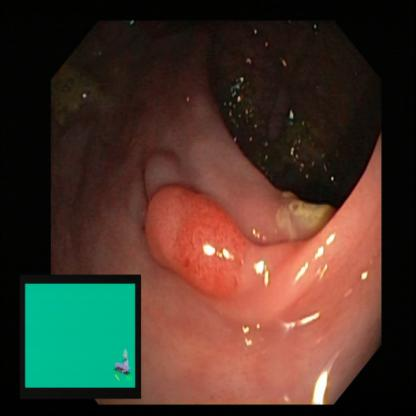Labels: (19, 277, 140, 398)
Polyps: (145, 175, 252, 306)
